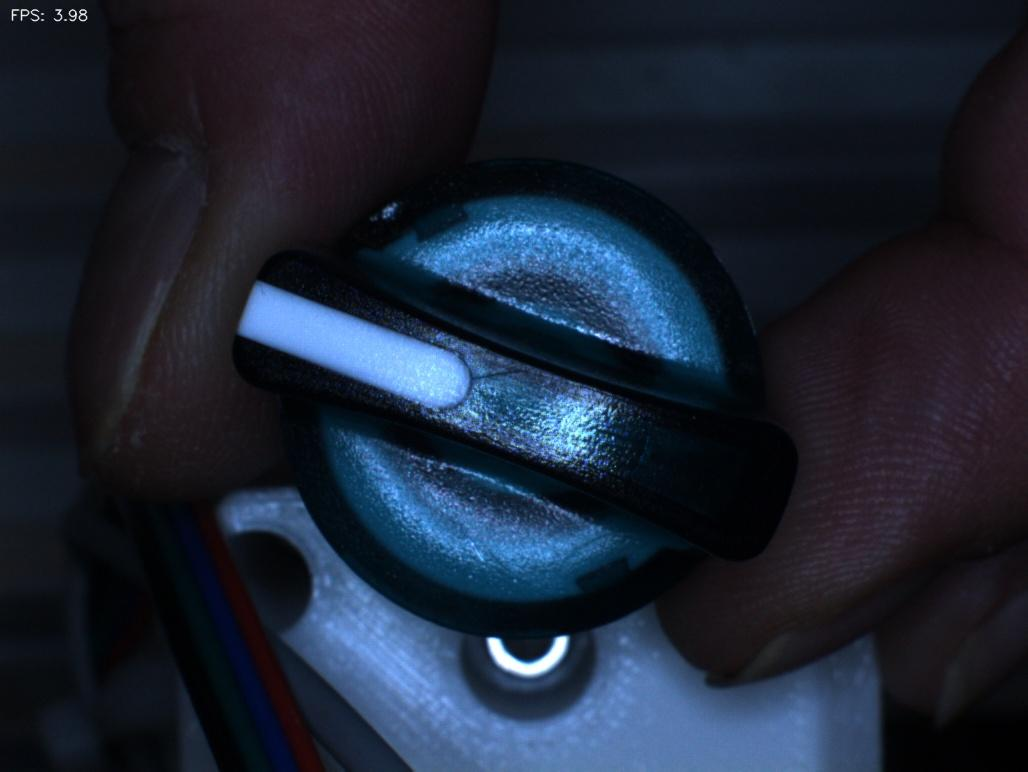Choc: (332, 170, 424, 248)
